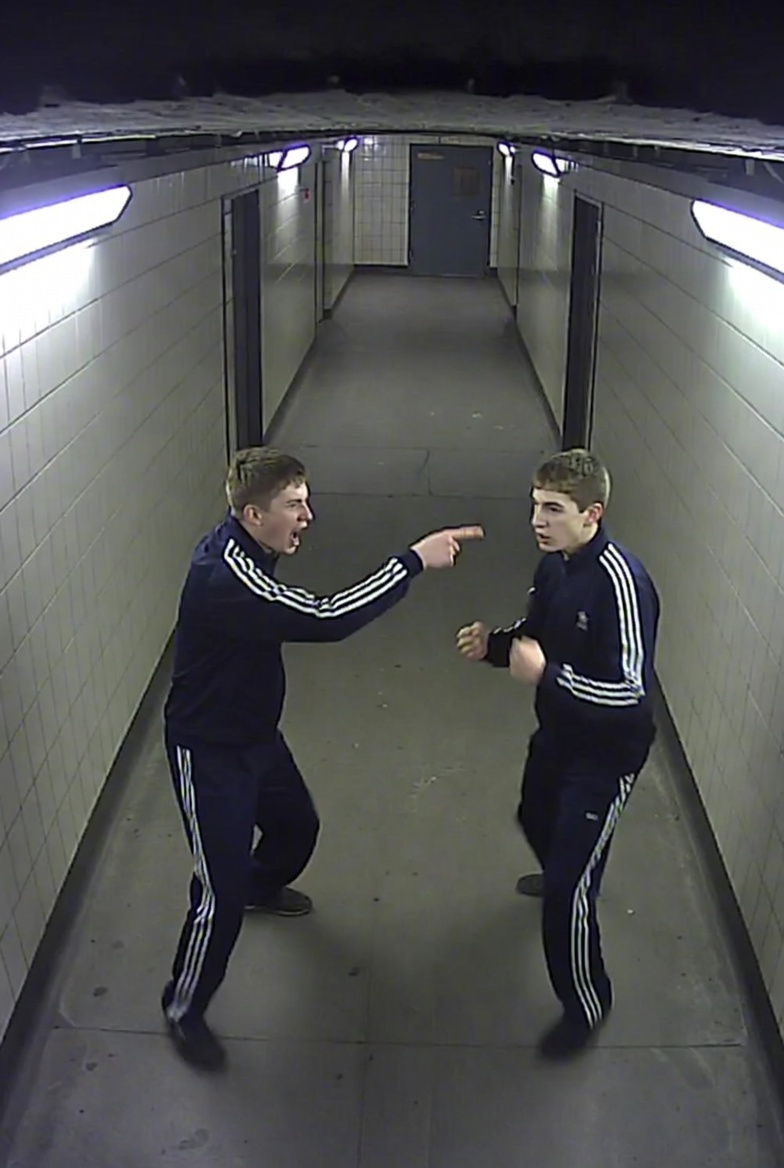Assault: (453, 448, 662, 1066)
Fighting: (158, 447, 480, 1074)
